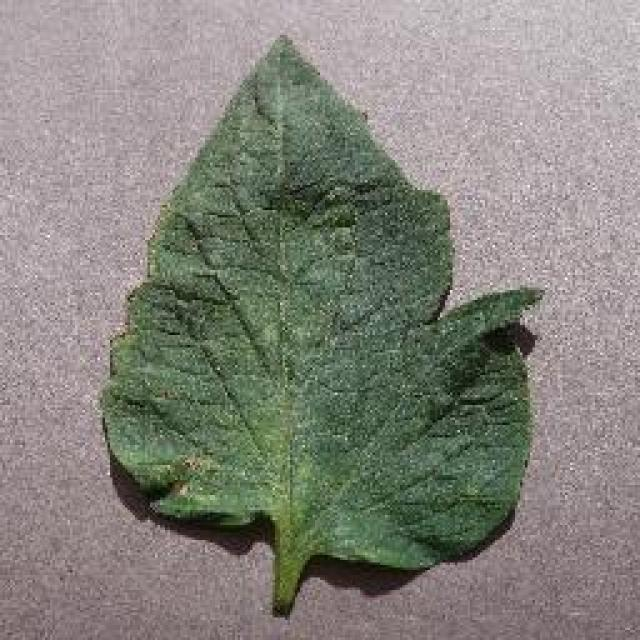Tom_Target_Spot: (137, 418, 235, 522)
